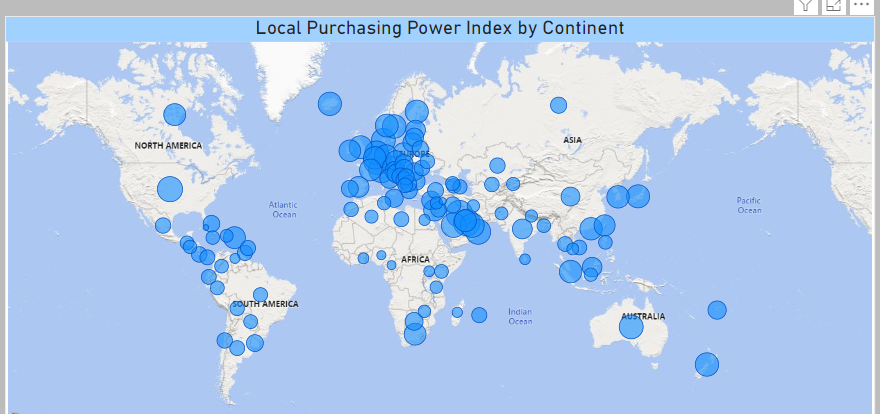

The page's visual inventory and layout, read from the dashboard file:
{"tool":"powerbi","page":{"name":"Page 2","canvas":[1280,720],"ordinal":0},"visuals":[{"type":"map","title":" Local Purchasing Power Index by Continent","fields":{"Size":["Sum(Cost of living in kenya.Local Purchasing Power Index)"],"Category":["Cost of living in kenya.Country"]},"box":[10.1,124.3,1253.1,596.3],"z":0}]}

Visuals, with their boxes on the page's 1280x720 design canvas (x1, y1, x2, y2). These are canvas units, not pixel positions in the 880x414 screenshot, which may show the page scaled, cropped or inside an application window:
" Local Purchasing Power Index by Continent" map: 10, 124, 1263, 721
